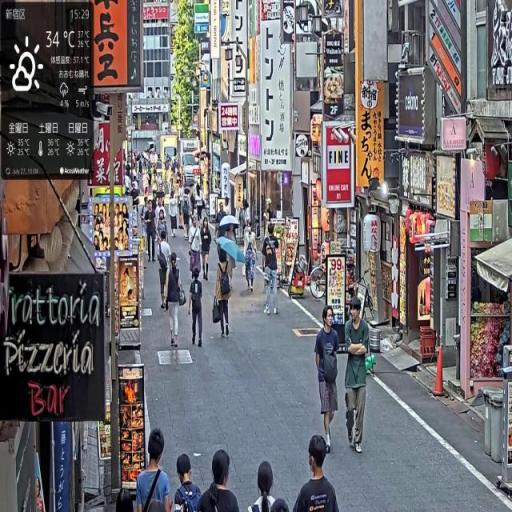person: (344, 297, 372, 458), (315, 306, 341, 455), (294, 434, 341, 512), (136, 428, 173, 512), (197, 449, 241, 512), (165, 252, 188, 352), (249, 462, 290, 512), (213, 247, 234, 340), (263, 223, 283, 318), (172, 453, 204, 512), (189, 267, 205, 349), (157, 232, 173, 313), (243, 223, 259, 294), (189, 215, 203, 284), (200, 217, 213, 284), (224, 220, 238, 282), (145, 200, 158, 264), (181, 188, 194, 241), (217, 202, 231, 248), (158, 210, 170, 262), (169, 192, 178, 239)
